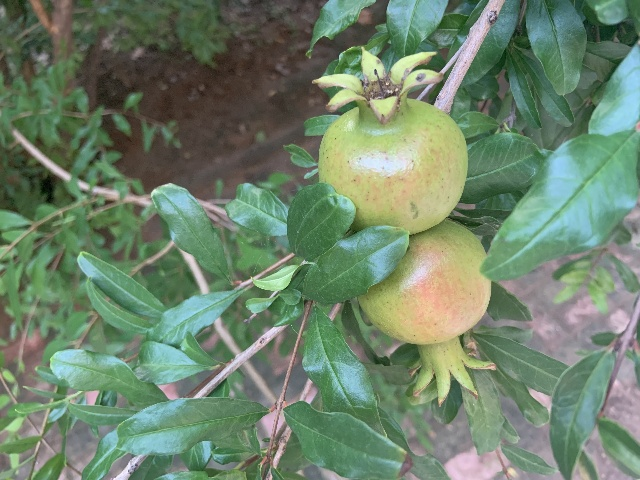mid-growth: (313, 48, 467, 234), (357, 222, 497, 408)
